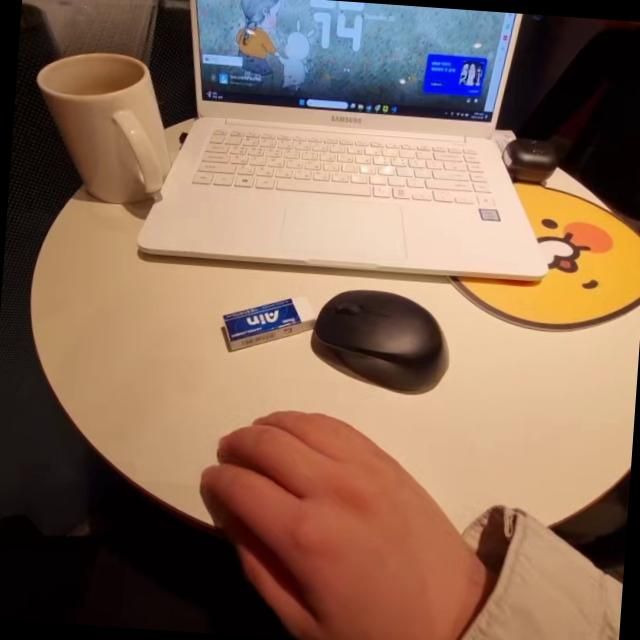eraser: (200, 278, 314, 361)
hand: (181, 388, 498, 640)
mouse: (315, 289, 485, 394)
